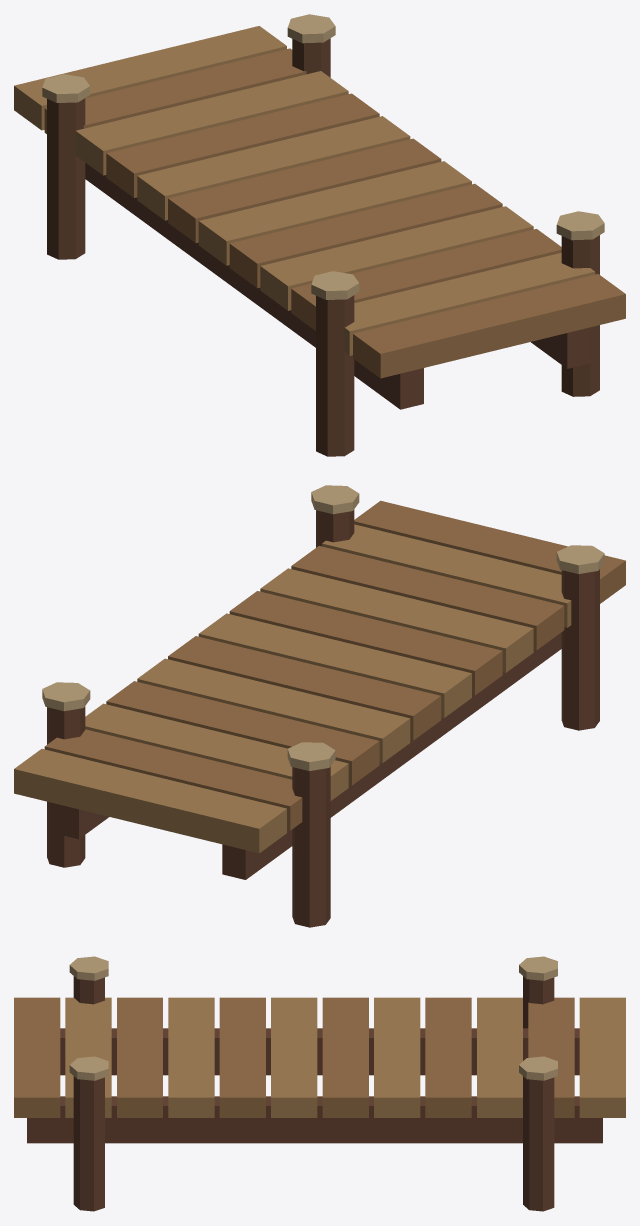
3 views of the same model, one above another, from view 1: azimuth 30°, elevation 25°; view 2: azimuth 150°, elevation 25°; view 3: azimuth 270°, elevation 25° (orthographic). The views are drawn at different scales.
Visible parts, largest first — view 1: H01_窄木码头; view 2: H01_窄木码头; view 3: H01_窄木码头.
Part boxes in pixels (x1,y1,x2,y2): H01_窄木码头: (14,14,625,456); H01_窄木码头: (14,485,625,927); H01_窄木码头: (14,956,625,1211).
Bounding box in the file's own units: 1.34 × 0.75 × 2.97.
